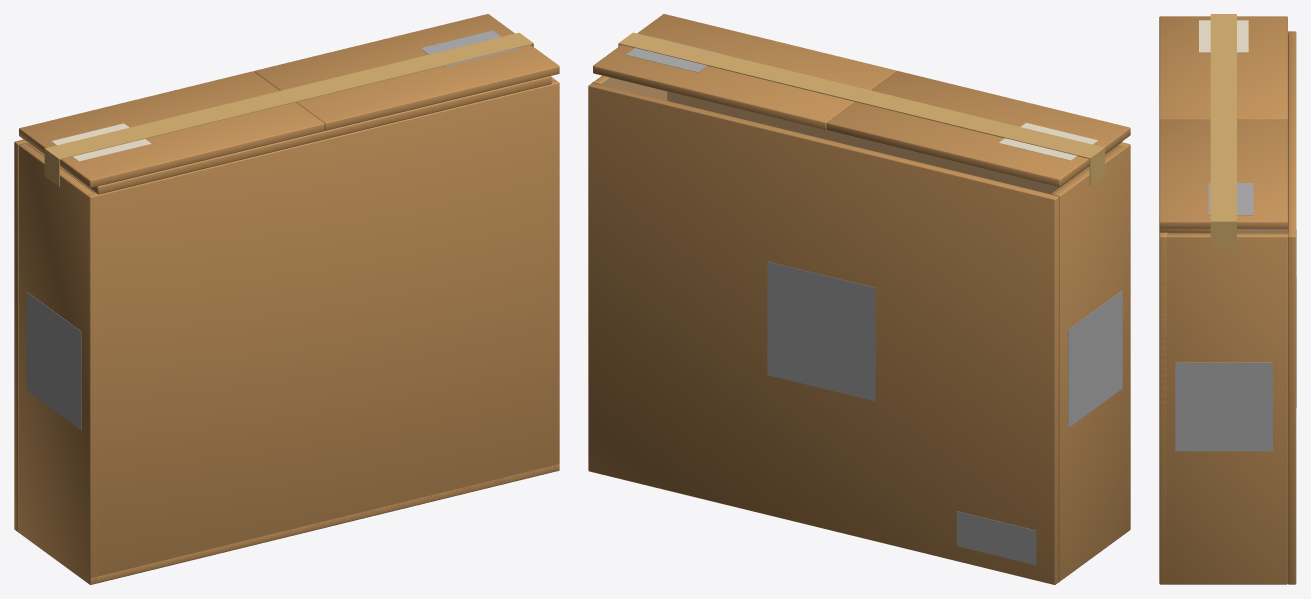
3 renders of one model, left to right at view 1: azimuth 30°, elevation 25°; view 2: azimuth 150°, elevation 25°; view 3: azimuth 270°, elevation 25°, orthographic. The views are drawn at different scales.
Parts seen in each view (by area): view 1: box_5x4, FlapR, FlapL, Tape, FlapB, Front; view 2: Front, box_5x4, FlapR, FlapL, Tape; view 3: box_5x4, FlapL, FlapR, Tape, Front, FlapB.
Boxes of the visible parts, x1,y1,x2,y2 form: box_5x4: (18, 77, 559, 584); FlapR: (19, 71, 324, 187); FlapL: (254, 14, 559, 130); Tape: (44, 32, 533, 186); FlapB: (64, 76, 551, 194); Front: (14, 139, 93, 531); Front: (588, 83, 1059, 584); box_5x4: (592, 75, 1130, 582); FlapR: (826, 71, 1130, 186); FlapL: (593, 14, 896, 129); Tape: (618, 32, 1104, 185); box_5x4: (1159, 31, 1288, 584); FlapL: (1159, 119, 1287, 228); FlapR: (1159, 16, 1287, 119); Tape: (1210, 14, 1236, 246); Front: (1288, 31, 1296, 584); FlapB: (1159, 228, 1210, 232).
Bounding box in the file's own units: 1.31 × 1.07 × 0.3649.
